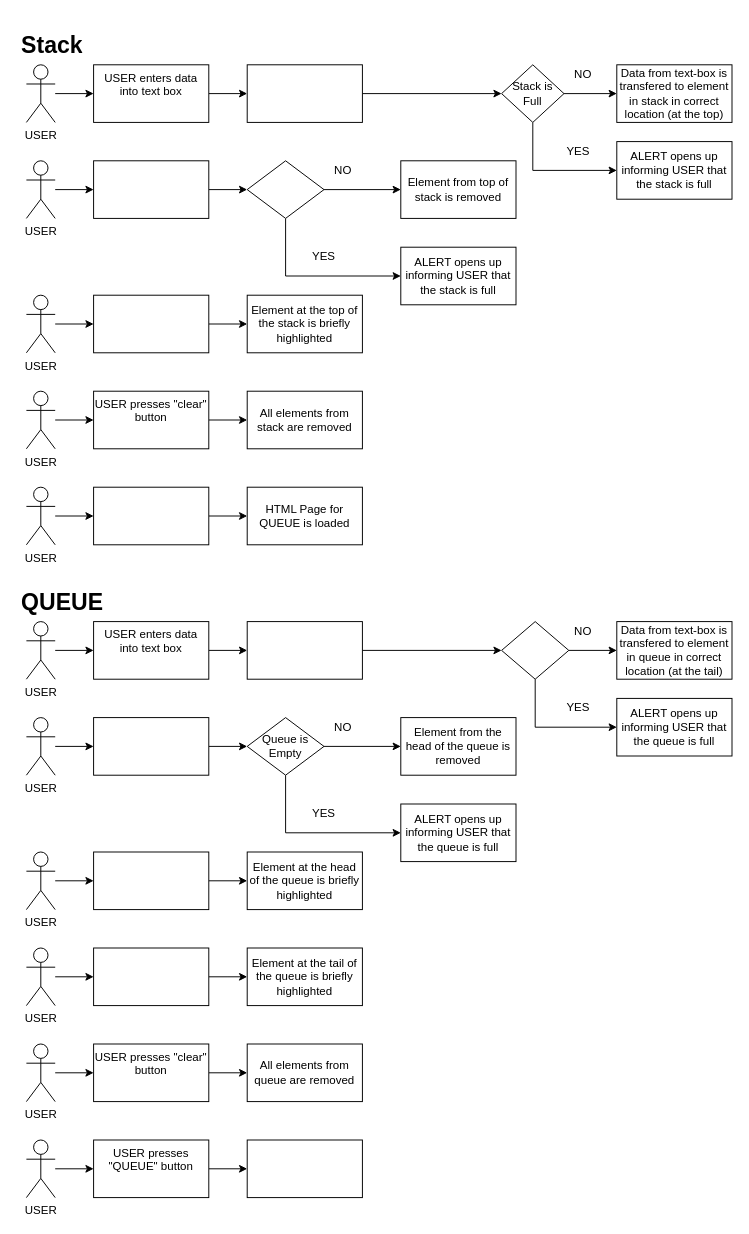
This 749x1234 diagram has some shape labels left out. The box of each missing label's shape, as (x1, y1, x2, y2) in pixels:
HTML Page for STACK is loaded: (246, 1139, 362, 1198)
Queue is Full: (501, 621, 569, 679)
Stack is Empty: (246, 160, 324, 218)
USER presses "dequeue" button: (93, 717, 209, 775)
USER presses "enqueue" button: (246, 621, 362, 679)
USER presses "getBack" button: (93, 947, 209, 1006)
USER presses "getFront" button: (93, 851, 209, 910)
USER presses "peek" button: (93, 294, 209, 353)
USER presses "pop" button: (93, 160, 209, 218)
USER presses "push" button: (246, 64, 362, 122)
USER presses "STACK" button: (93, 486, 209, 545)
